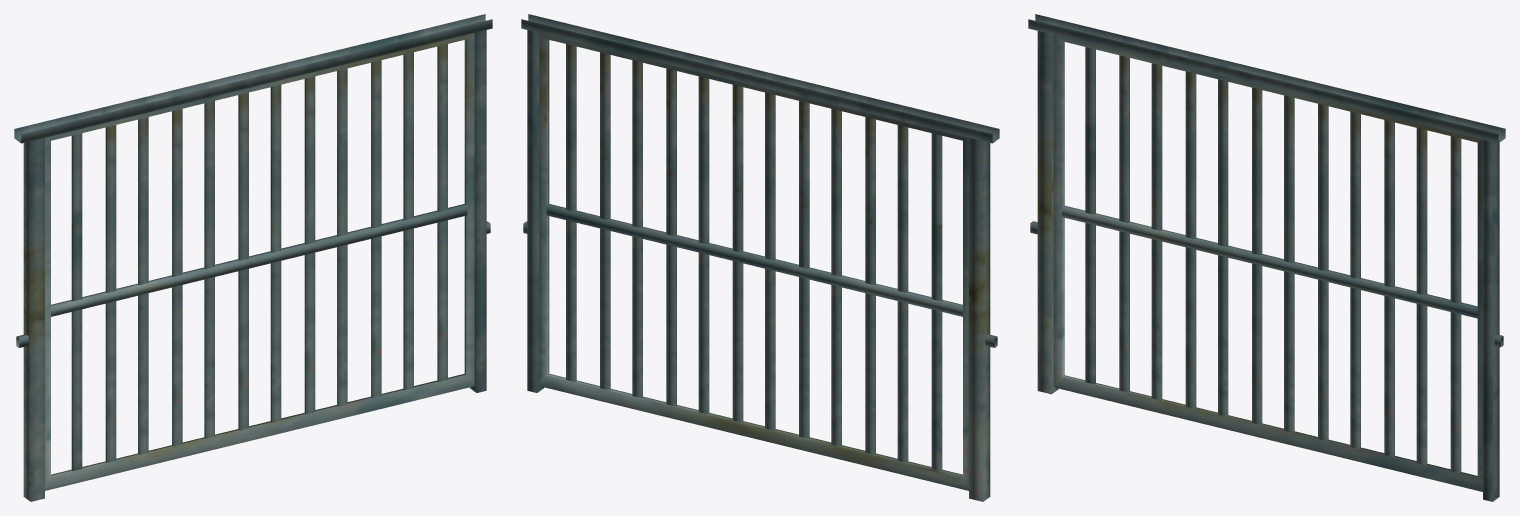
The model's file is Fence04.obj.
The picture shows the model from 3 angles, left to right: view 1: azimuth 30°, elevation 25°; view 2: azimuth 150°, elevation 25°; view 3: azimuth 330°, elevation 25°; orthographic projection.
Parts seen in each view (by area): view 1: Fence04; view 2: Fence04; view 3: Fence04.
Part boxes in pixels (x1,y1,x2,y2): Fence04: (14, 14, 492, 501); Fence04: (521, 14, 999, 501); Fence04: (1028, 14, 1505, 501).
Bounding box in the file's own units: 4 × 3 × 0.1035.
